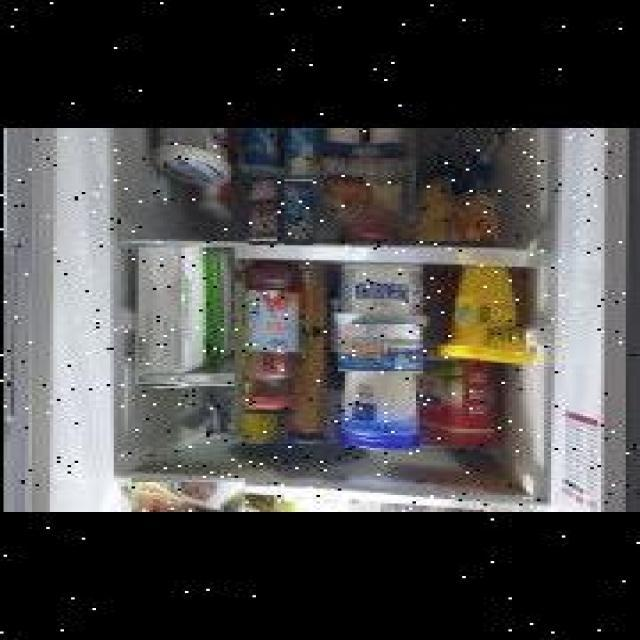butter: (414, 357, 500, 452)
cheese: (334, 326, 420, 372)
grated_cheese: (405, 128, 498, 241), (312, 158, 412, 241)
marmelade: (240, 260, 297, 412)
milk: (135, 247, 231, 384)
sausage: (128, 478, 242, 512)
yogurt: (280, 180, 310, 246), (245, 177, 274, 243), (280, 128, 316, 173)
